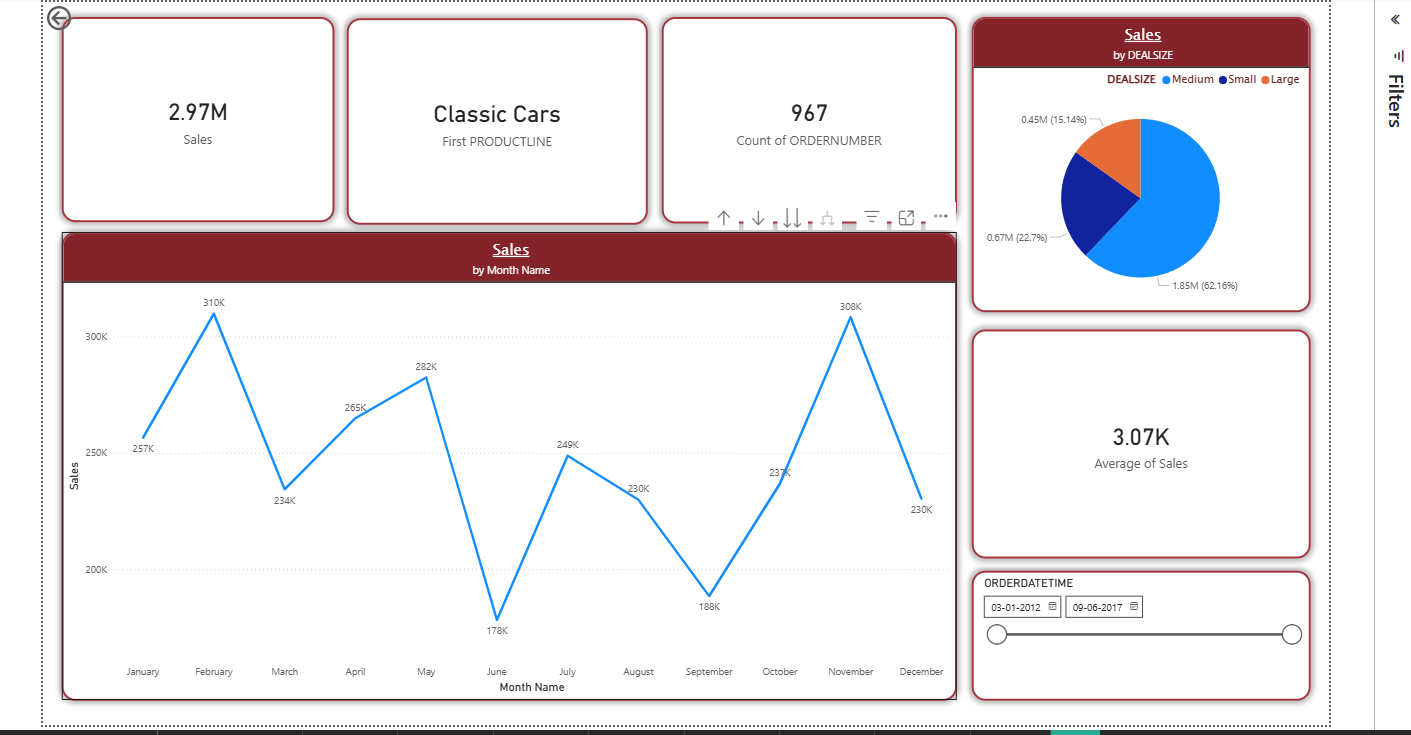

The page's visual inventory and layout, read from the dashboard file:
{"tool":"powerbi","page":{"name":"Dashboard","canvas":[1600,900],"ordinal":0},"visuals":[{"type":"card","fields":{"Values":["All Measures.Sales"]},"box":[23.3,18.7,339,255],"z":0},{"type":"card","fields":{"Values":["Min(Vehicle Order.PRODUCTLINE)"]},"box":[377.9,20.2,374.7,256.6],"z":1000},{"type":"card","fields":{"Values":["CountNonNull(Vehicle Order.ORDERNUMBER)"]},"box":[769.7,18.7,367,256.6],"z":2000},{"type":"pieChart","fields":{"Y":["All Measures.Sales"],"Category":["Vehicle Order.DEALSIZE"]},"box":[1155.3,18.7,421.4,367],"z":3000},{"type":"lineChart","fields":{"Y":["All Measures.Sales"],"Category":["Calander.Year Hierarchy.Year","Calander.Year Hierarchy.Quarter","Calander.Year Hierarchy.Month Name","Calander.Year Hierarchy.Day Name"]},"box":[23.3,286.1,1113.3,583.1],"z":4000},{"type":"card","fields":{"Values":["Avg(Vehicle Order.Sales)"]},"box":[1155.3,407.4,421.4,284.6],"z":5000},{"type":"actionButton","box":[0,0,100,40],"z":7000},{"type":"slicer","fields":{"Values":["Vehicle Order.ORDERDATETIME"]},"box":[1155.3,707.5,421.4,161.7],"z":7001}]}

Visuals, with their boxes in screenshot pixels (x1, y1, x2, y2):
card - All Measures.Sales: 56/15/328/220
card - Min(Vehicle Order.PRODUCTLINE): 341/16/643/223
card - CountNonNull(Vehicle Order.ORDERNUMBER): 657/15/952/222
pieChart - All Measures.Sales x Vehicle Order.DEALSIZE: 967/15/1306/311
lineChart - All Measures.Sales x Calander.Year Hierarchy.Year: 56/230/952/700
card - Avg(Vehicle Order.Sales): 967/328/1306/557
actionButton: 37/0/117/32
slicer - Vehicle Order.ORDERDATETIME: 967/570/1306/700
